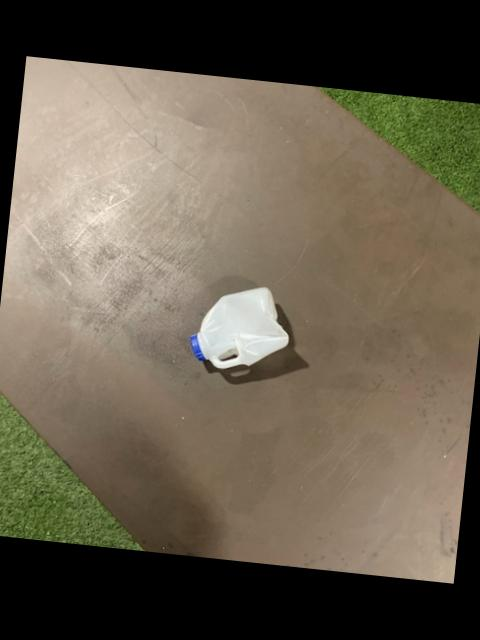plastic: (191, 286, 289, 368)
